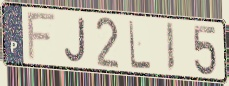2: (95, 16, 120, 70)
5: (191, 23, 218, 77)
F: (26, 11, 58, 62)
I: (165, 20, 176, 75)
J: (63, 16, 87, 65)
L: (127, 18, 152, 71)
